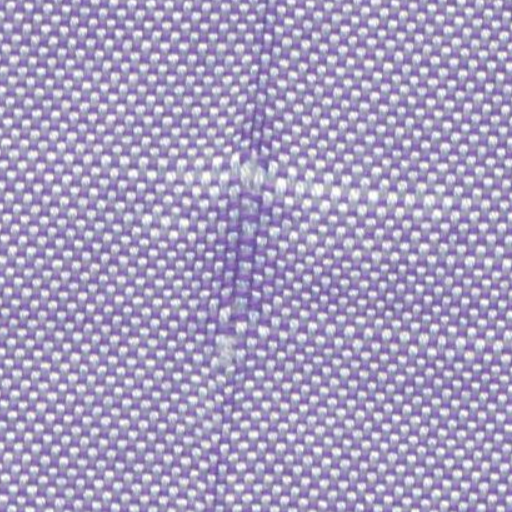DaiSha: (180, 74, 349, 402)
